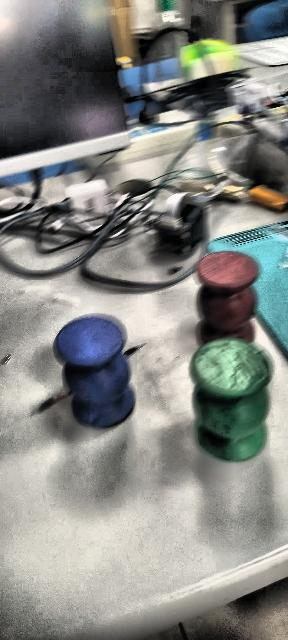blue: (55, 315, 137, 428)
green: (189, 343, 272, 463)
red: (192, 247, 257, 345)
